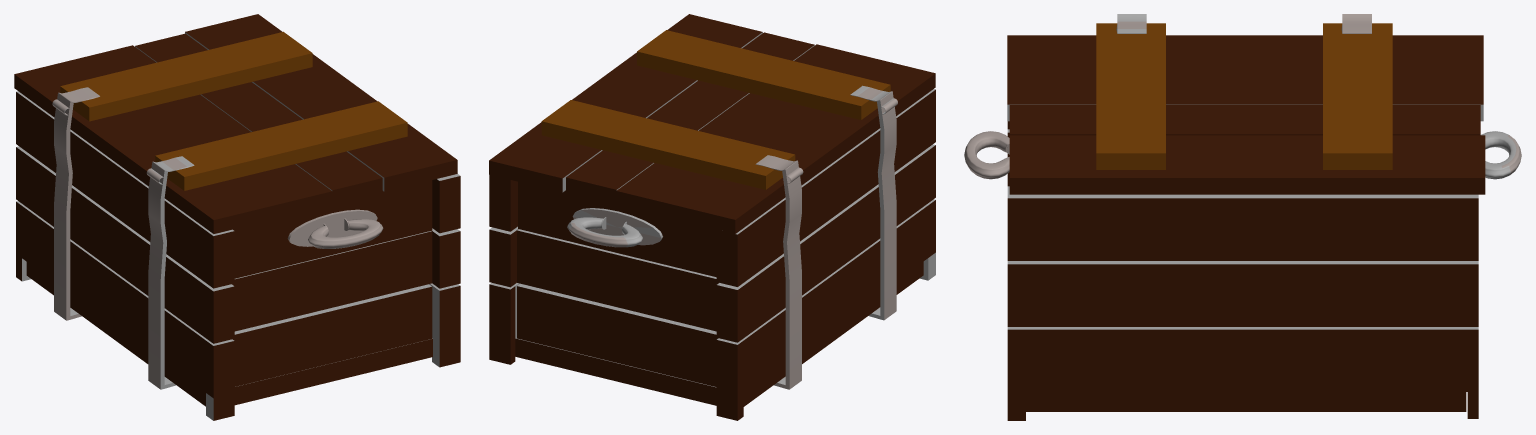
The model's file is Hinged_Lid_Updated.fbx.
The picture shows the model from 3 angles, left to right: view 1: azimuth 30°, elevation 25°; view 2: azimuth 150°, elevation 25°; view 3: azimuth 270°, elevation 25°; orthographic projection. The views are drawn at different scales.
Visible parts, largest first — view 1: Crate2_HingedLid:Lid1; view 2: Crate2_HingedLid:Lid1; view 3: Crate2_HingedLid:Lid1.
Boxes of the visible parts, box(x1,y1,x2,y2) form: Crate2_HingedLid:Lid1: box(14, 14, 460, 420); Crate2_HingedLid:Lid1: box(489, 14, 935, 420); Crate2_HingedLid:Lid1: box(964, 14, 1521, 420).
Bounding box in the file's own units: 1.65 × 1.35 × 2.61.
